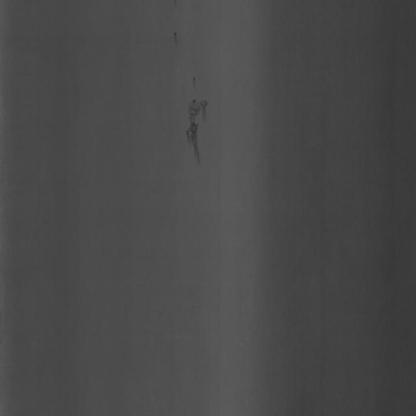water_spot: (180, 77, 223, 176)
